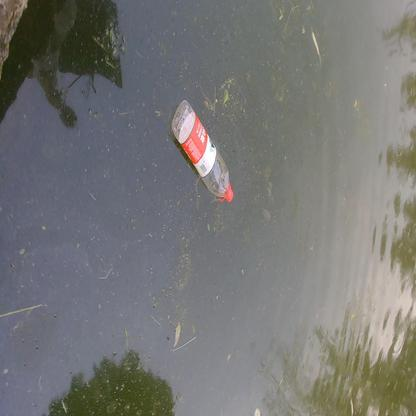plastic bottle: (170, 99, 234, 203)
